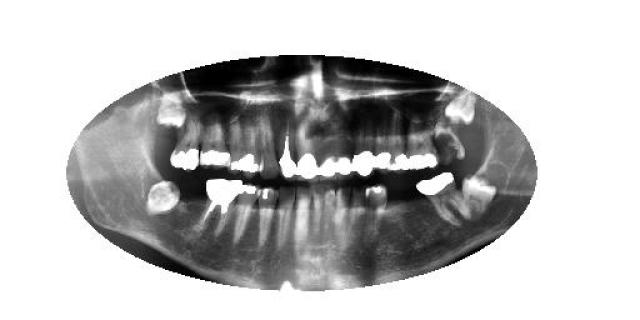Cavity: (435, 119, 466, 165)
Fillings: (414, 172, 471, 228), (231, 184, 261, 246), (199, 114, 231, 170), (406, 116, 436, 170), (170, 120, 201, 171), (363, 184, 388, 245), (351, 116, 375, 176), (241, 116, 261, 179), (295, 133, 319, 185), (258, 186, 278, 248), (389, 108, 406, 176), (375, 115, 393, 176), (228, 116, 246, 175), (317, 151, 335, 179), (337, 150, 352, 178)
Implant: (196, 179, 245, 240), (274, 118, 296, 182)
